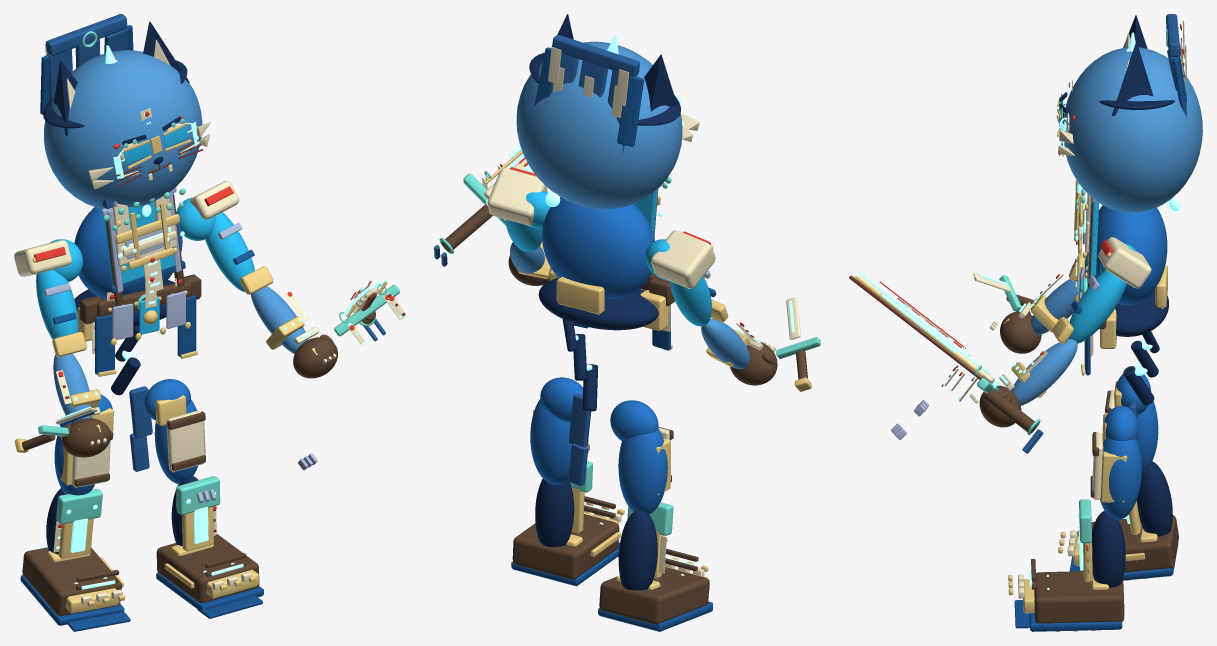
Rendered from player.glb.
3 views of the same model, side by side, from view 1: azimuth 30°, elevation 25°; view 2: azimuth 150°, elevation 25°; view 3: azimuth 270°, elevation 25° (orthographic). The views are drawn at different scales.
Parts seen in each view (by area): view 1: Head, L_Foot, R_Foot, Torso, L_UpperArm, R_UpperArm, R_LowerArm, R_ThighPlate, L_Fist, R_Fist, CapeTopRoll, L_LowerArm (+37 smaller); view 2: Head, Torso, L_Foot, R_Foot, L_Thigh, Hips, L_Shin, R_Thigh, L_ShoulderPad, R_Shin, R_ShoulderPad, CapeTopRoll (+23 smaller); view 3: Head, R_Foot, Torso, R_Thigh, R_Shin, R_UpperArm, L_Shin, L_Foot, R_LowerArm, Hips, R_ShoulderPad, L_Fist (+17 smaller).
Part boxes in pixels (box(x1,y1,x2,y2)): Head: box(44, 50, 202, 208); L_Foot: box(22, 547, 121, 615); R_Foot: box(156, 534, 259, 602); Torso: box(74, 207, 182, 298); L_UpperArm: box(36, 270, 78, 339); R_UpperArm: box(205, 212, 254, 292); R_LowerArm: box(251, 286, 308, 353); R_ThighPlate: box(166, 410, 204, 472); L_Fist: box(62, 418, 110, 457); R_Fist: box(293, 337, 337, 378); CapeTopRoll: box(46, 14, 127, 55); L_LowerArm: box(53, 353, 92, 423); Head: box(516, 41, 682, 209); Torso: box(542, 197, 654, 298); L_Foot: box(599, 567, 709, 624); R_Foot: box(512, 514, 619, 579); L_Thigh: box(618, 428, 667, 514); Hips: box(538, 278, 658, 330); L_Shin: box(618, 511, 657, 590); R_Thigh: box(530, 399, 571, 484); L_ShoulderPad: box(651, 230, 715, 288); R_Shin: box(535, 478, 574, 547); R_ShoulderPad: box(487, 168, 547, 225); CapeTopRoll: box(552, 35, 639, 76); Head: box(1063, 47, 1202, 212); R_Foot: box(1034, 571, 1124, 623); Torso: box(1095, 205, 1167, 305); R_Thigh: box(1100, 438, 1141, 519); R_Shin: box(1092, 511, 1125, 587); R_UpperArm: box(1069, 270, 1126, 343); L_Shin: box(1136, 461, 1172, 536); L_Foot: box(1091, 515, 1178, 572); R_LowerArm: box(1011, 339, 1077, 405); Hips: box(1115, 289, 1168, 336); R_ShoulderPad: box(1098, 237, 1151, 288); L_Fist: box(1000, 311, 1041, 353).
Bounding box in the file's own units: 2.86 × 4.22 × 2.37.
